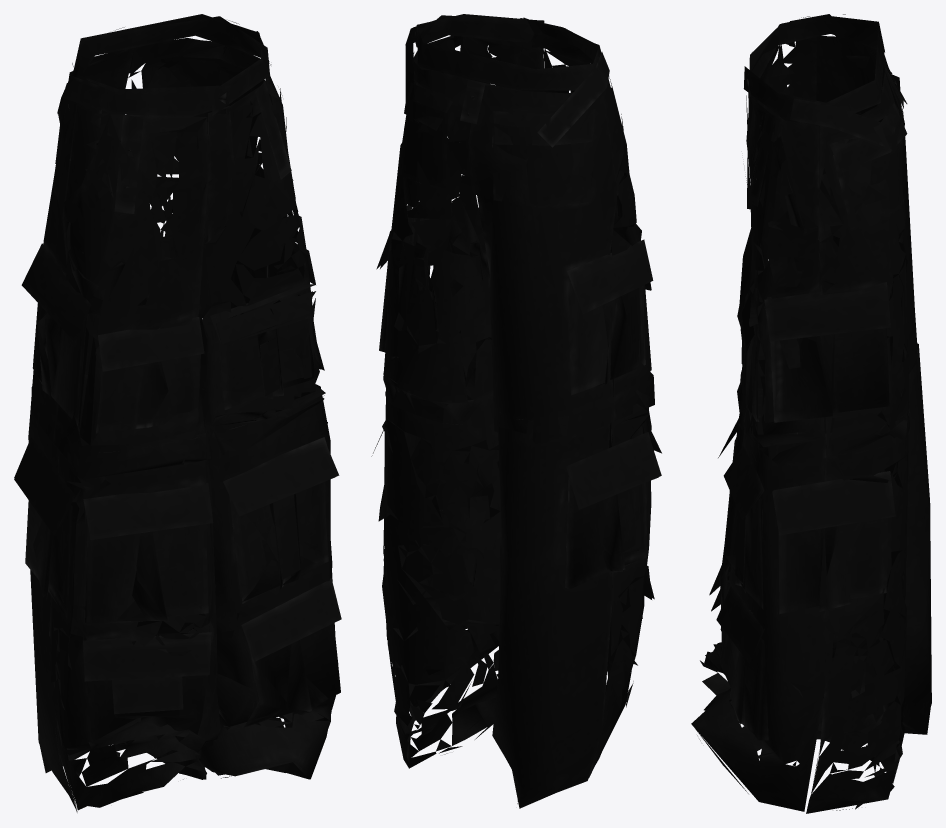
The model's file is SM_vetements_cargo_jeans_wide_leg_track_pants.glb.
3 views of the same model, side by side, from view 1: azimuth 30°, elevation 25°; view 2: azimuth 150°, elevation 25°; view 3: azimuth 270°, elevation 25° (orthographic). The views are drawn at different scales.
Visible parts, largest first — view 1: SM_vetements_cargo_jeans_wide_leg_track_pants; view 2: SM_vetements_cargo_jeans_wide_leg_track_pants; view 3: SM_vetements_cargo_jeans_wide_leg_track_pants.
Part boxes in pixels (x1,y1,x2,y2): SM_vetements_cargo_jeans_wide_leg_track_pants: (14, 14, 341, 812); SM_vetements_cargo_jeans_wide_leg_track_pants: (371, 14, 661, 808); SM_vetements_cargo_jeans_wide_leg_track_pants: (691, 14, 931, 813).
Bounding box in the file's own units: 0.4903 × 1.25 × 0.3786.
Materials: 1 (1 with a texture image).
